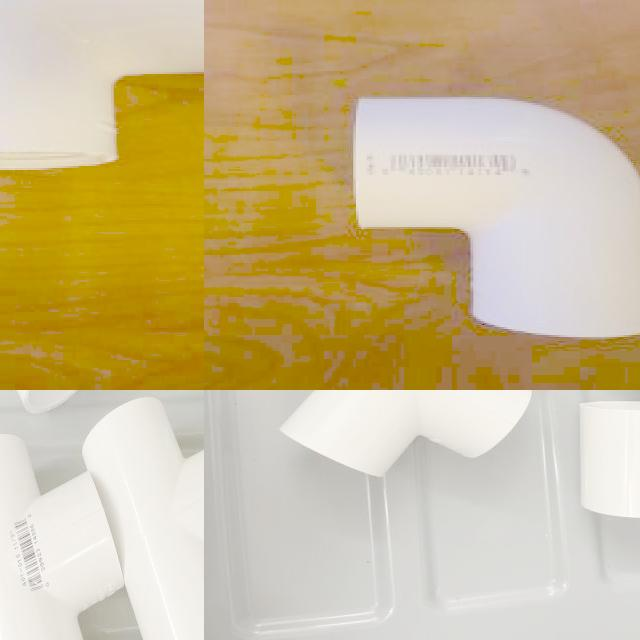L Joint: (351, 97, 640, 340)
T Joint: (80, 398, 204, 640), (0, 434, 125, 640), (279, 390, 533, 478)
